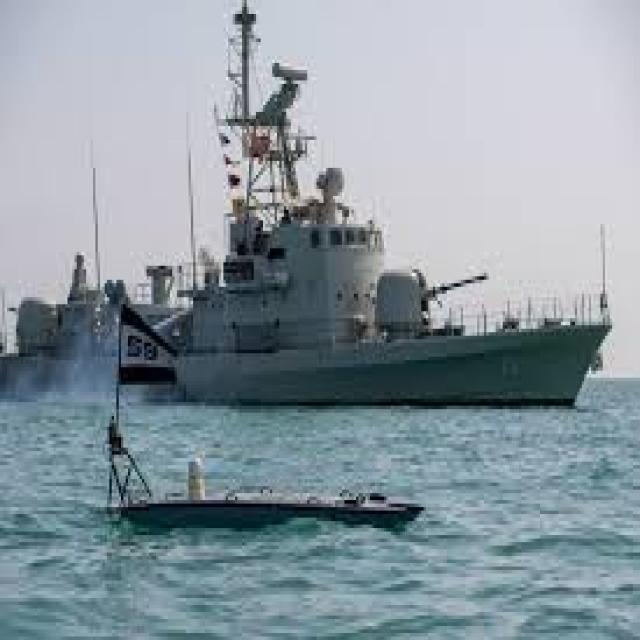navalvessels: (0, 17, 606, 422)
